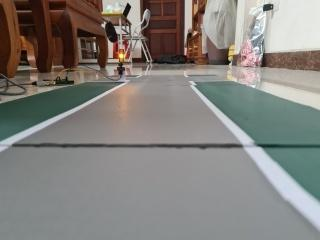yellow: (114, 45, 132, 68)
